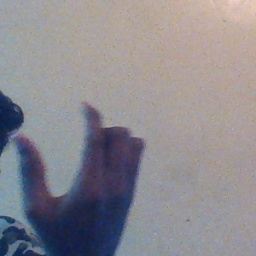U: (12, 98, 152, 250)
